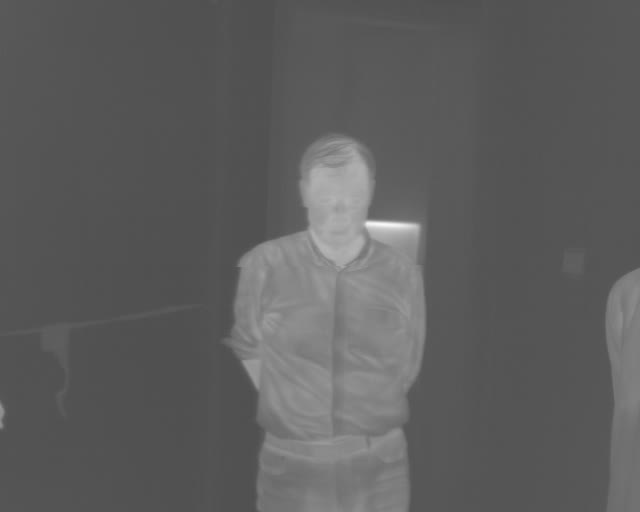face: (296, 132, 377, 246)
